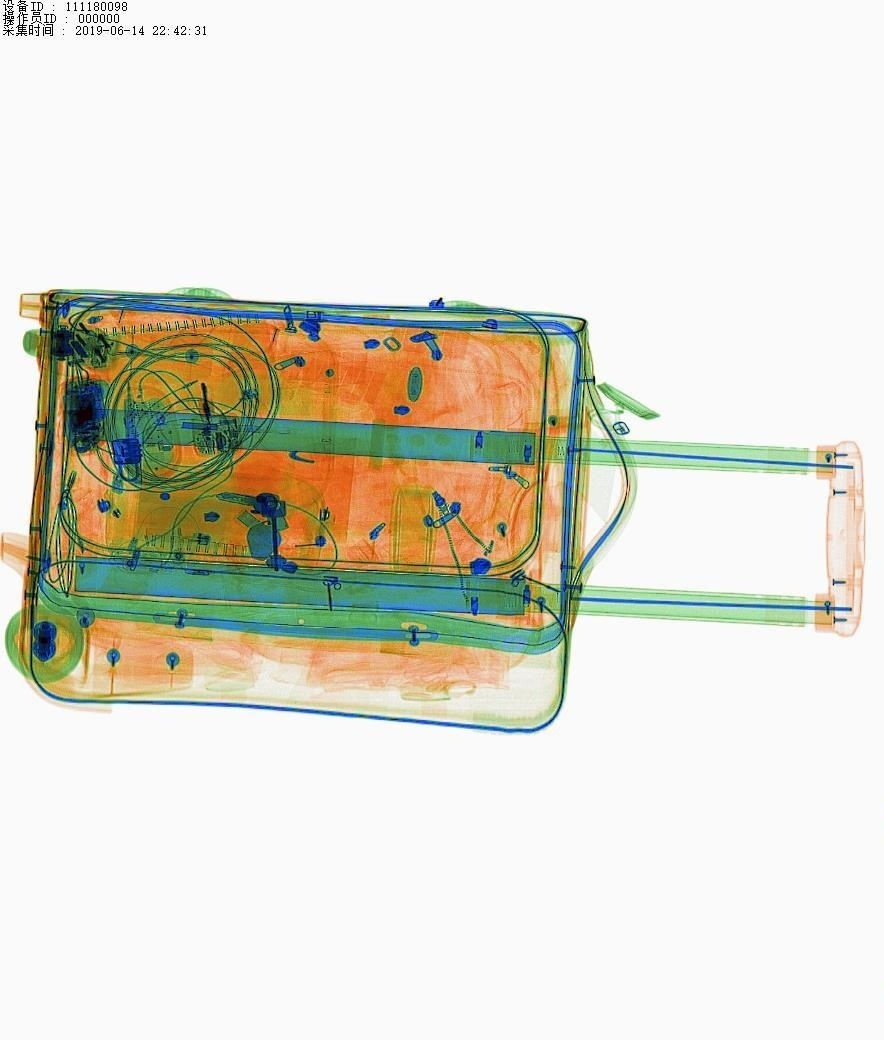NonmetallicFire: (138, 522, 234, 561), (234, 378, 287, 444)
